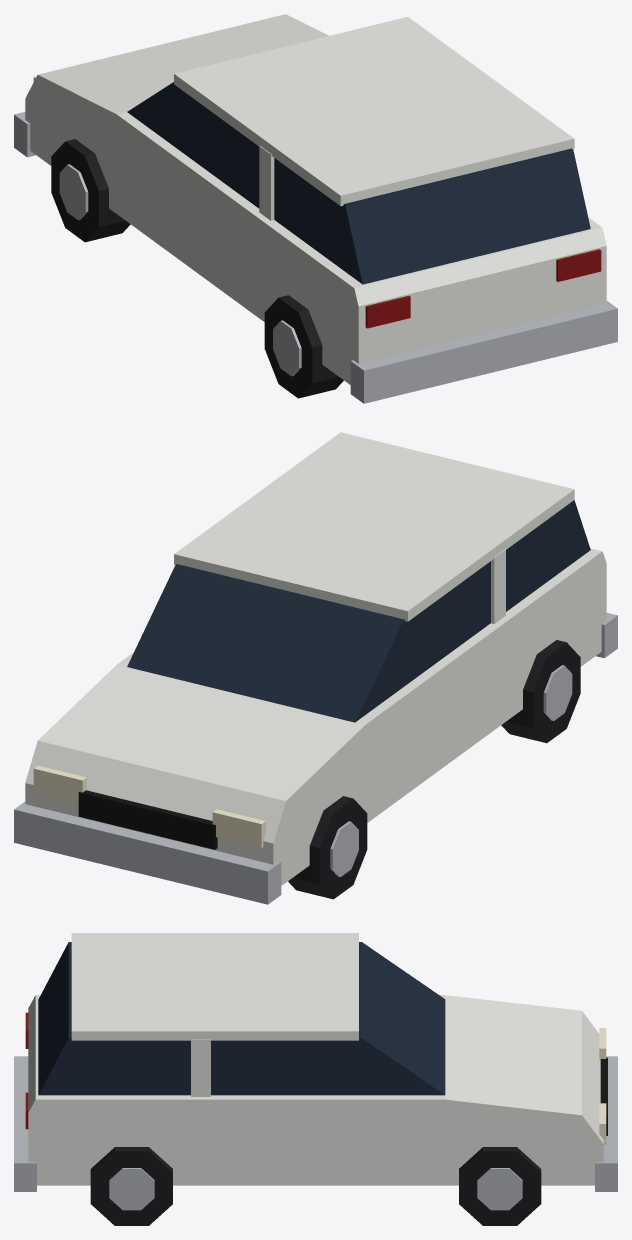
Rendered from CarHatchWhite.obj.
3 renders of one model, top to bottom at view 1: azimuth 30°, elevation 25°; view 2: azimuth 150°, elevation 25°; view 3: azimuth 270°, elevation 25°, orthographic. The views are drawn at different scales.
Visible parts, largest first — view 1: CarHatchWhite; view 2: CarHatchWhite; view 3: CarHatchWhite.
Part boxes in pixels (x1,y1,x2,y2): CarHatchWhite: (14, 14, 617, 403); CarHatchWhite: (14, 432, 617, 904); CarHatchWhite: (14, 933, 617, 1225).
Size of the model in its own units: 1.89 by 1.44 by 4.2.
Materials: 1 (1 with a texture image).
